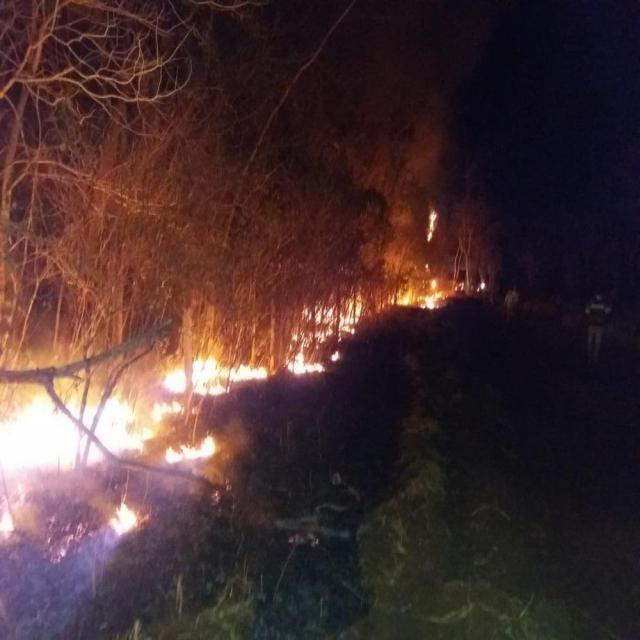Fire: (11, 359, 180, 470), (288, 274, 360, 373), (164, 337, 267, 405), (387, 260, 490, 314), (164, 437, 218, 471), (112, 504, 139, 536), (426, 206, 439, 246)
